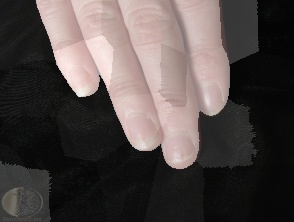Nail_psoriasis: (158, 123, 202, 172), (129, 125, 167, 156), (123, 107, 157, 126)
